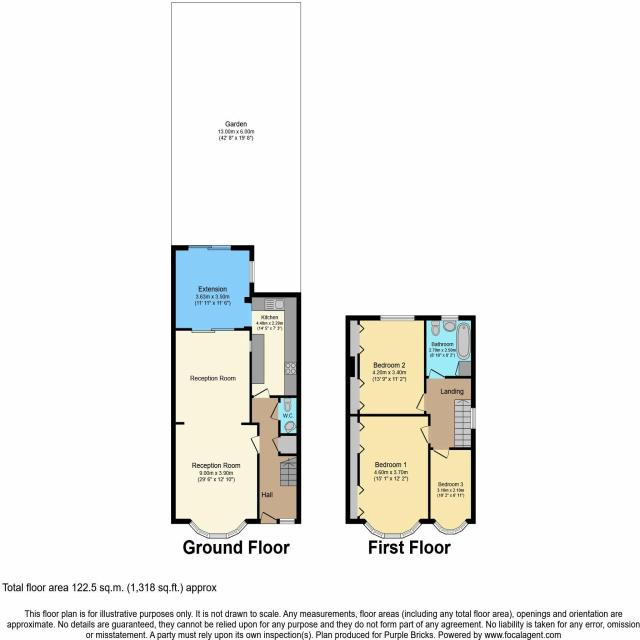DOOR: (415, 392, 427, 411), (419, 425, 431, 444), (249, 434, 260, 454), (251, 387, 271, 398), (432, 447, 450, 459), (427, 368, 445, 379)
ROOM: (170, 245, 301, 397), (345, 413, 431, 539), (345, 315, 427, 417), (428, 447, 476, 535)
SLIDING DOOR: (186, 244, 233, 252), (190, 326, 236, 334)
WINDOW: (188, 520, 248, 539), (362, 520, 422, 539), (432, 520, 469, 535), (379, 315, 415, 321), (249, 259, 255, 283), (470, 407, 476, 430), (440, 315, 459, 322), (279, 518, 295, 524)
